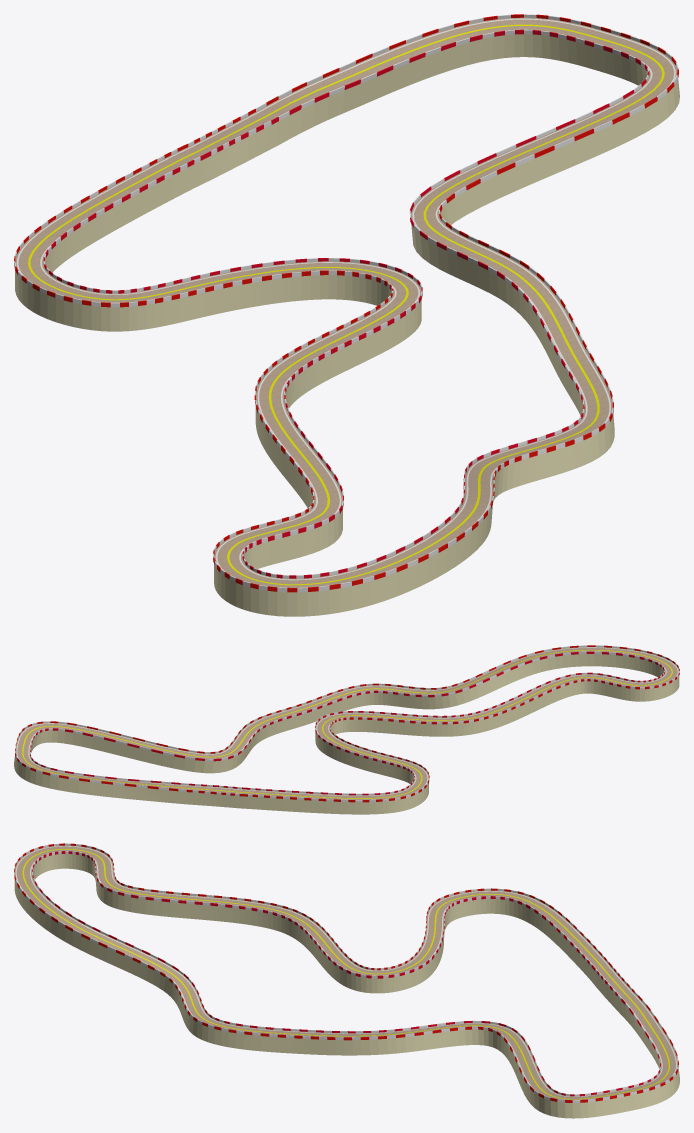
Rendered from bowt 2.fbx.
The picture shows the model from 3 angles, top to bottom: view 1: azimuth 30°, elevation 25°; view 2: azimuth 150°, elevation 25°; view 3: azimuth 270°, elevation 25°; orthographic projection. The views are drawn at different scales.
Visible parts, largest first — view 1: NurbsCurve.001, NurbsCurve.008, NurbsCurve.003; view 2: NurbsCurve.001, NurbsCurve.008, NurbsCurve.003; view 3: NurbsCurve.001, NurbsCurve.008, NurbsCurve.003.
Part boxes in pixels (x1,y1,x2,y2): NurbsCurve.001: (15, 17, 679, 616); NurbsCurve.008: (14, 14, 678, 592); NurbsCurve.003: (43, 29, 649, 578); NurbsCurve.001: (14, 647, 679, 814); NurbsCurve.008: (15, 645, 679, 802); NurbsCurve.003: (30, 651, 664, 795); NurbsCurve.001: (14, 845, 679, 1118); NurbsCurve.008: (14, 843, 678, 1102); NurbsCurve.003: (32, 851, 660, 1096).
Bounding box in the file's own units: 9790 × 889 × 10686.
